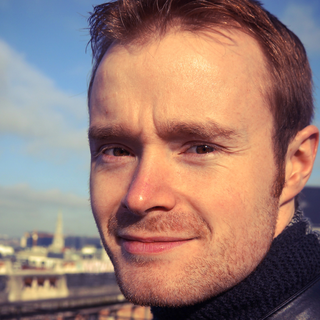eye: (171, 132, 232, 166), (90, 140, 141, 168)
